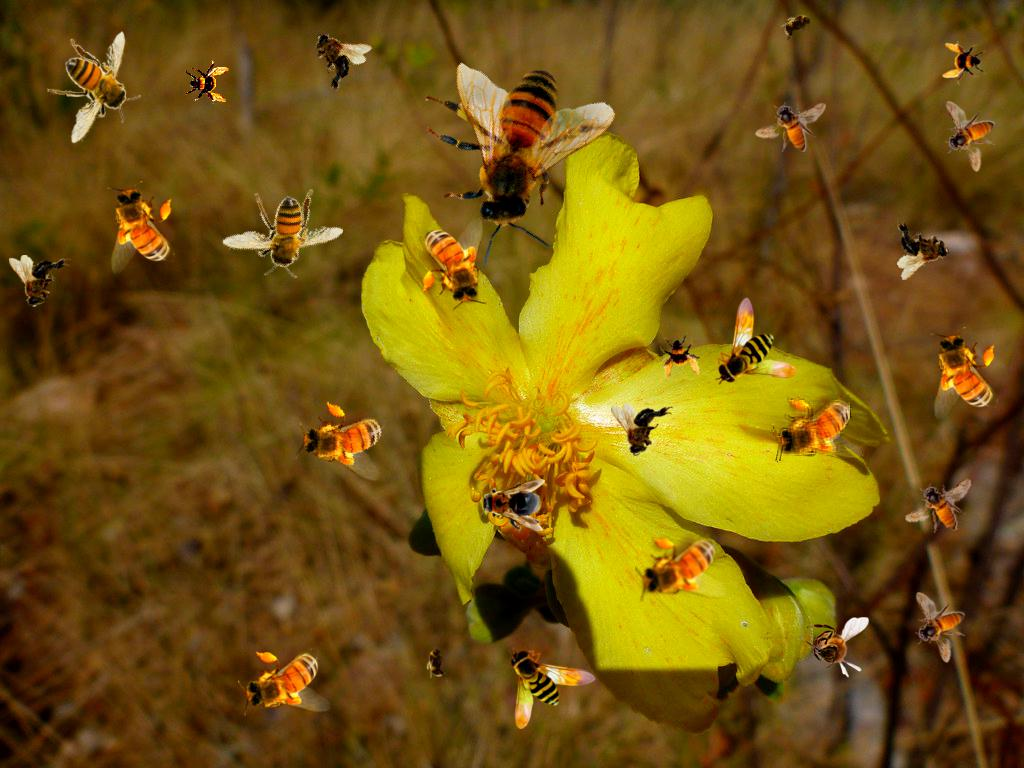Bee: (371, 6, 656, 292), (208, 164, 353, 302), (44, 30, 143, 146), (288, 392, 400, 487), (508, 647, 596, 729), (715, 297, 797, 385), (294, 16, 375, 98), (107, 181, 175, 274), (419, 217, 487, 310), (771, 395, 864, 463), (635, 534, 728, 602), (930, 327, 998, 420), (238, 648, 331, 716), (900, 477, 978, 538), (799, 617, 869, 678), (893, 213, 952, 281), (915, 592, 965, 663), (755, 102, 826, 152), (945, 101, 995, 172), (477, 479, 545, 531), (611, 403, 673, 456), (9, 255, 71, 308), (654, 329, 708, 383), (185, 60, 229, 104), (942, 41, 986, 85), (775, 6, 821, 44), (426, 642, 448, 682)
